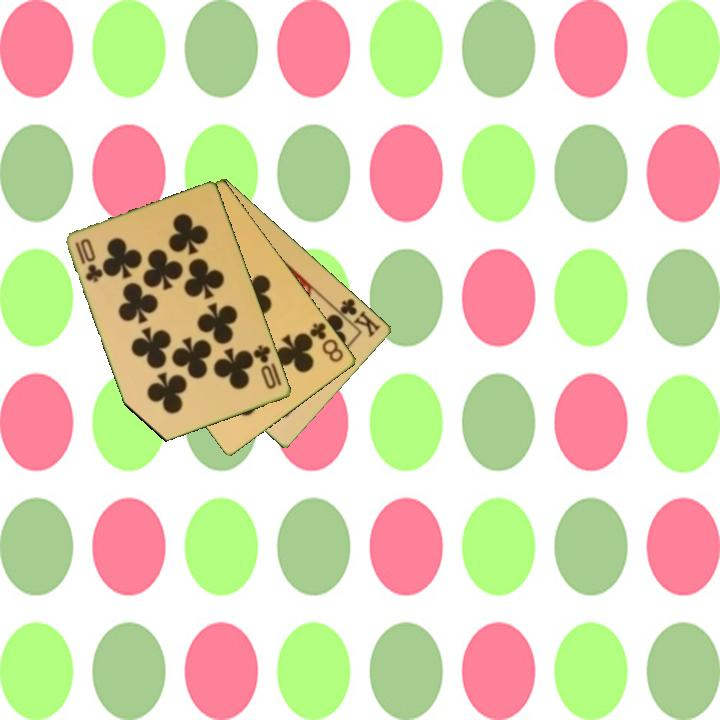10c: (72, 235, 106, 285), (250, 341, 279, 392)
8c: (306, 319, 347, 365)
Kc: (331, 294, 384, 340)
